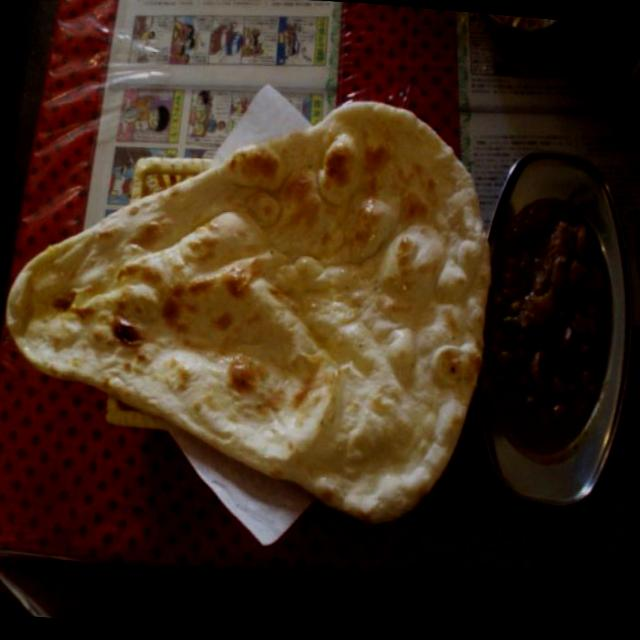Beef Curry: (469, 174, 632, 477)
